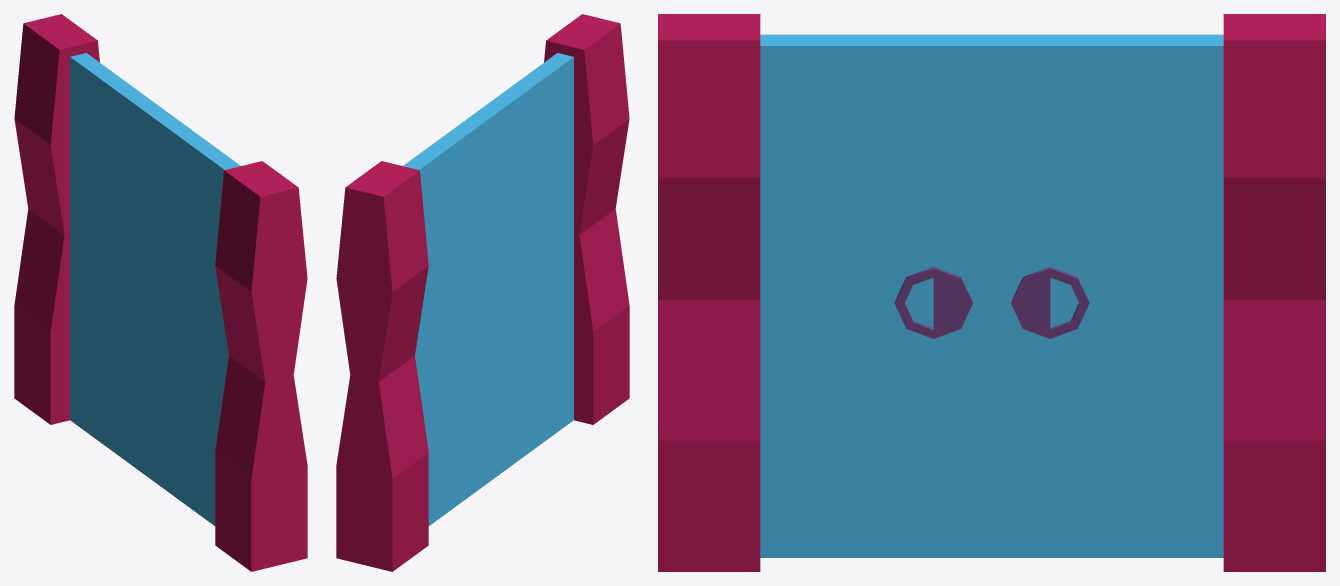
Rendered from Map2_Door.fbx.
3 views of the same model, side by side, from view 1: azimuth 30°, elevation 25°; view 2: azimuth 150°, elevation 25°; view 3: azimuth 270°, elevation 25° (orthographic). The views are drawn at different scales.
Visible parts, largest first — view 1: pillar, Door2, Door1; view 2: pillar, Door1, Door2; view 3: Door1, Door2, pillar.
Boxes of the visible parts, x1,y1,x2,y2 form: pillar: [14, 14, 307, 571]; Door2: [70, 53, 167, 479]; Door1: [152, 113, 240, 525]; pillar: [336, 14, 629, 571]; Door1: [476, 53, 573, 479]; Door2: [403, 113, 491, 525]; Door1: [760, 34, 991, 557]; Door2: [992, 34, 1223, 557]; pillar: [658, 14, 1325, 571].
Size of the model in its own units: 104 by 660 by 760.
